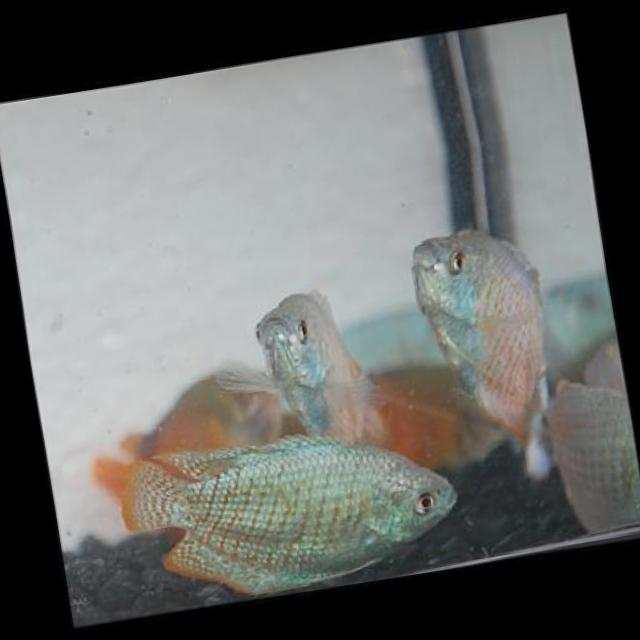Gourami: (109, 401, 466, 614), (398, 207, 569, 473)
